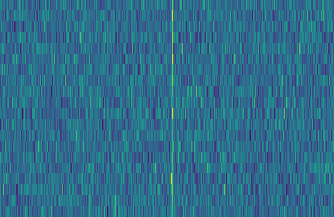signal: (167, 0, 176, 217)
